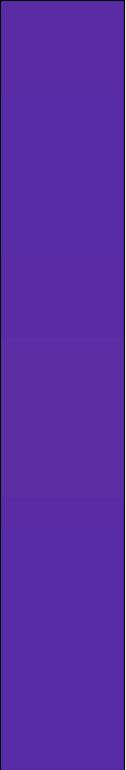safe: (11, 13, 118, 760)
